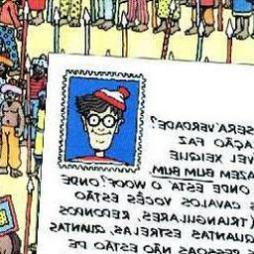wally: (65, 85, 134, 169)
